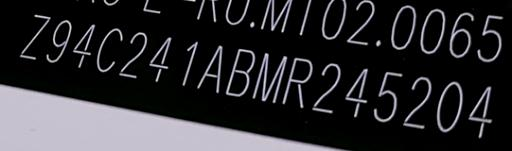letter: (16, 13, 52, 63), (252, 51, 288, 100), (371, 70, 405, 121), (402, 74, 434, 127), (466, 84, 498, 137), (280, 56, 314, 105), (42, 17, 76, 65), (118, 28, 150, 79), (224, 46, 256, 97), (310, 62, 342, 113), (435, 78, 465, 130), (342, 65, 370, 116), (198, 40, 224, 93), (147, 34, 173, 85), (174, 38, 200, 89), (70, 21, 98, 68), (96, 26, 124, 73)
